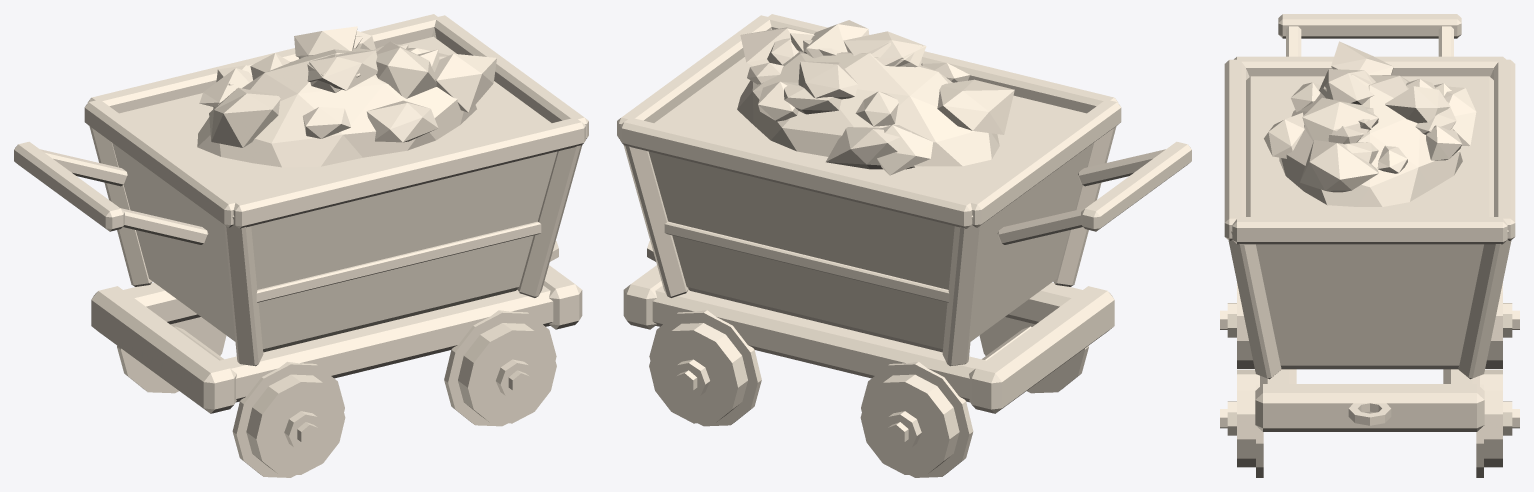
Rendered from SM_VK_Prop_Minecart.fbx.
3 renders of one model, left to right at view 1: azimuth 30°, elevation 25°; view 2: azimuth 150°, elevation 25°; view 3: azimuth 270°, elevation 25°, orthographic. The views are drawn at different scales.
Parts seen in each view (by area): view 1: SM_VK_Prop_Minecart.001; view 2: SM_VK_Prop_Minecart.001; view 3: SM_VK_Prop_Minecart.001.
Boxes of the visible parts, <box> form: SM_VK_Prop_Minecart.001: <box>14,14,588,477</box>; SM_VK_Prop_Minecart.001: <box>617,14,1191,477</box>; SM_VK_Prop_Minecart.001: <box>1220,14,1519,477</box>.
Size of the model in its own units: 1.79 by 1.24 by 0.98.
